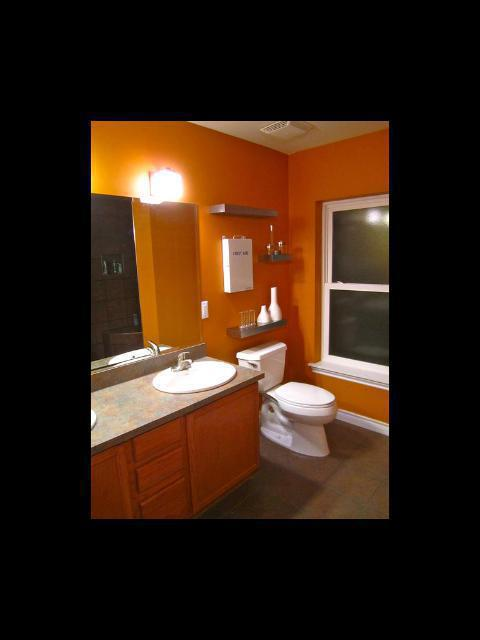Lavamanos: (153, 354, 238, 396)
Sanitario: (235, 340, 346, 461)
